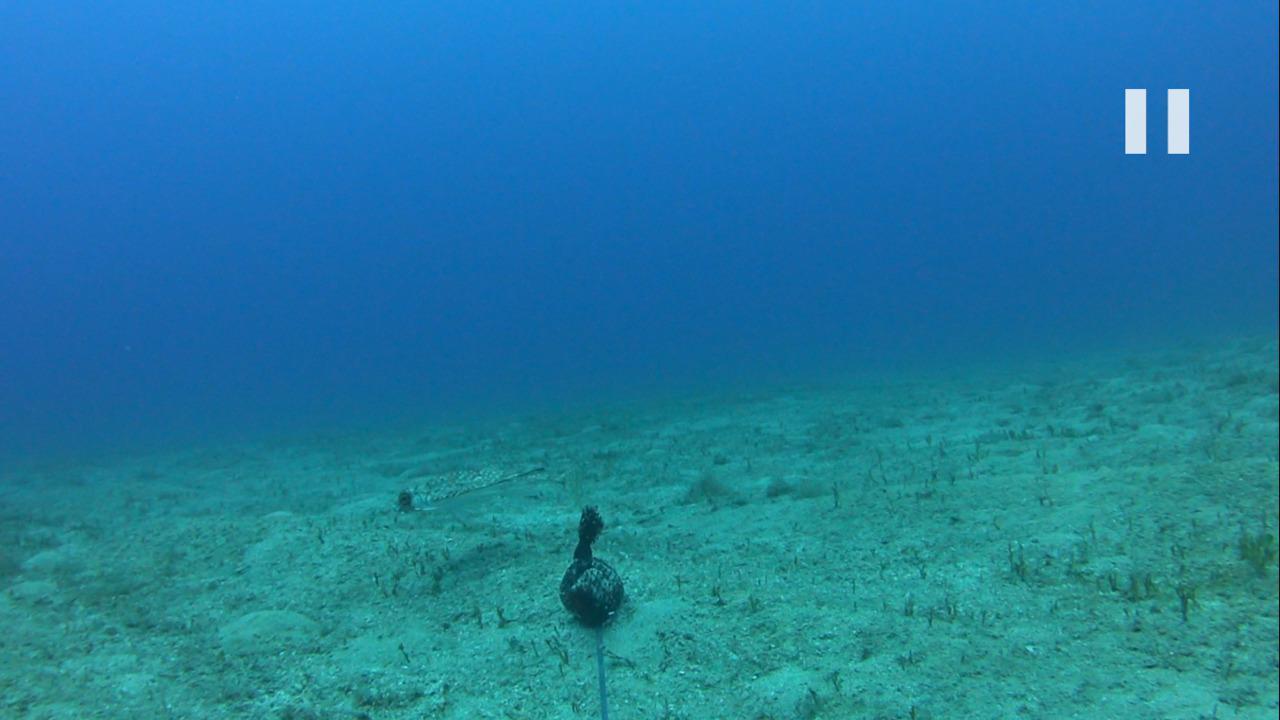dactylopterus: (387, 443, 587, 538)
